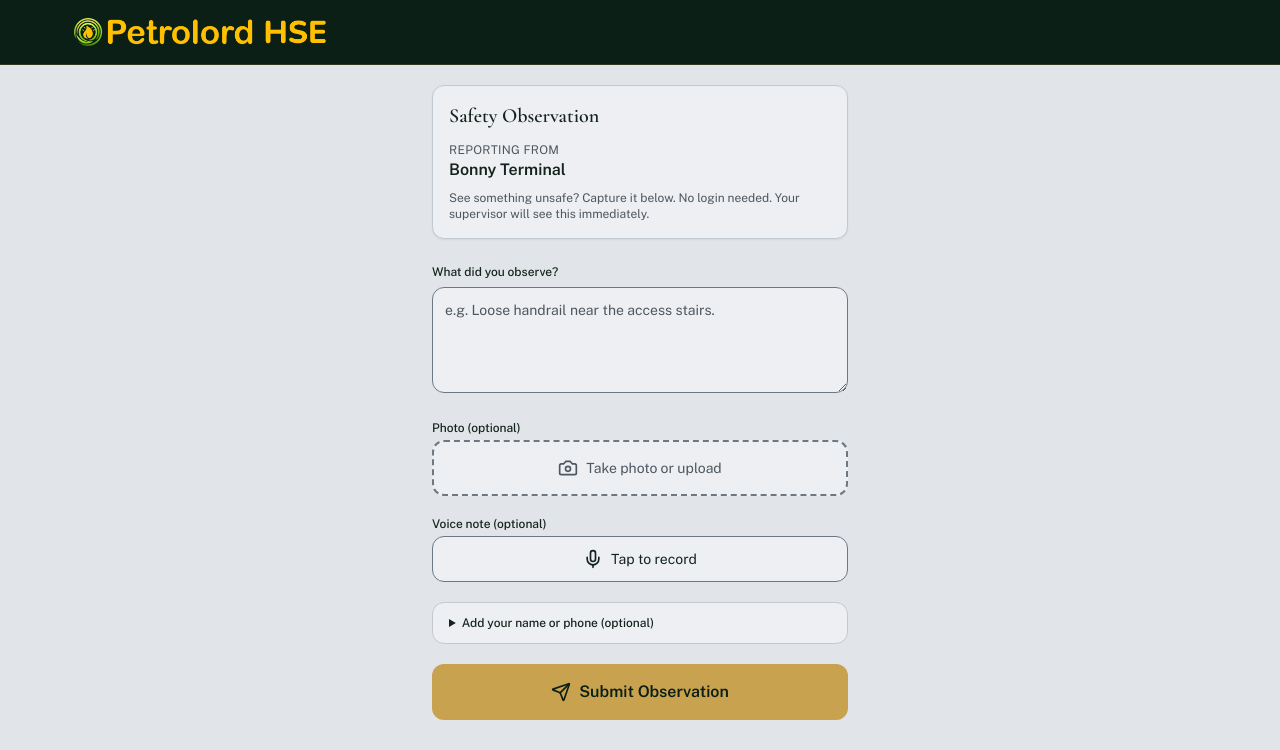
QR observation: the themed states › the submit error, the recording state and the success card are themed
Expected: the text "Bonny Terminal" is shown, [449,160,566,179]
Step 1. Click the button "Submit Observation" → [640, 692], box [432,664,848,720]
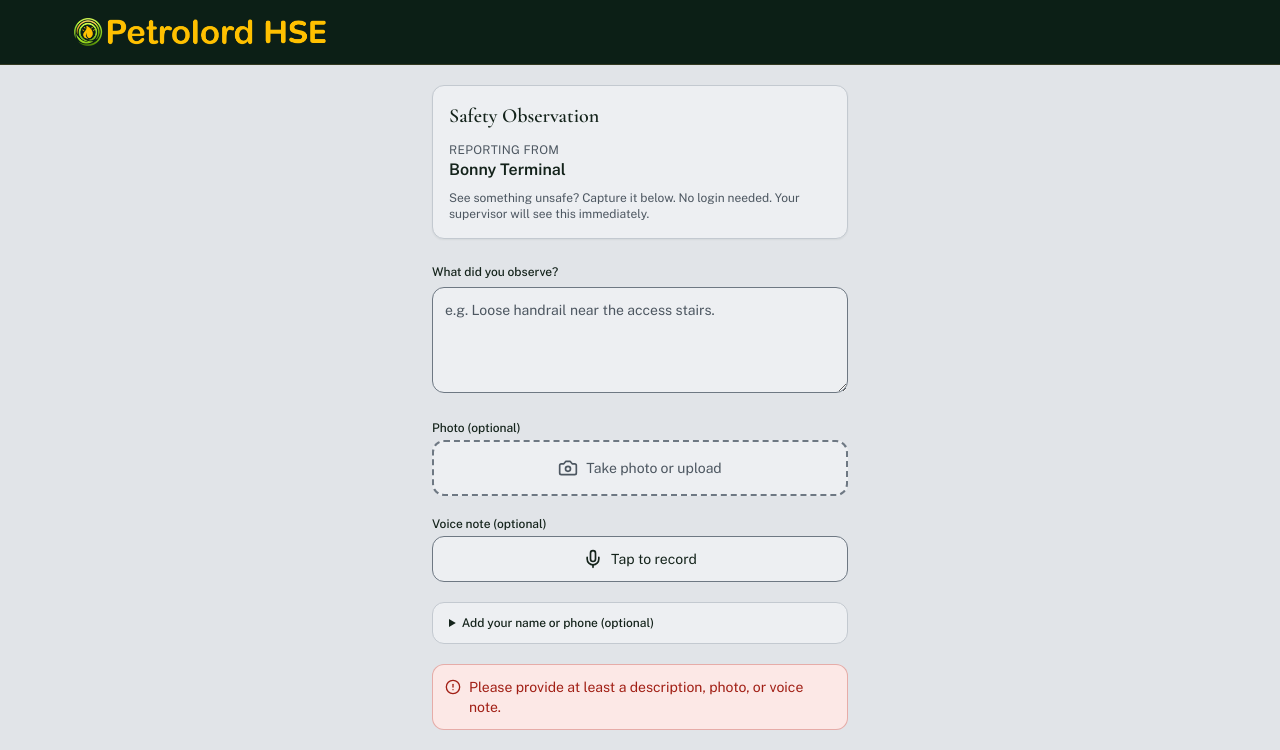
Now the text "Please provide at least a description, photo, or voice note." is shown, box [469,677,835,717]
Step 2. Click the button "Tap to record" → [640, 559], box [432,536,848,582]
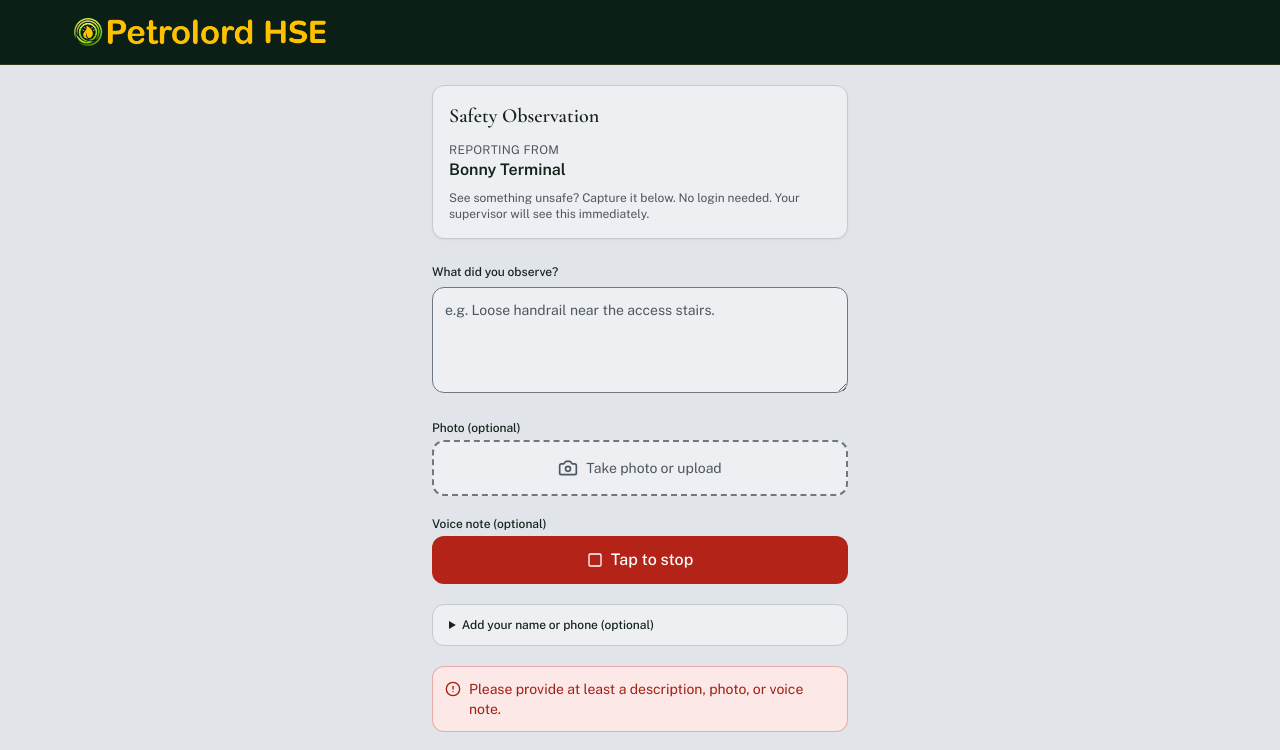
Now the button "Tap to stop" is shown
Step 3. Click the button "Tap to stop" → [640, 560], box [432,536,848,584]
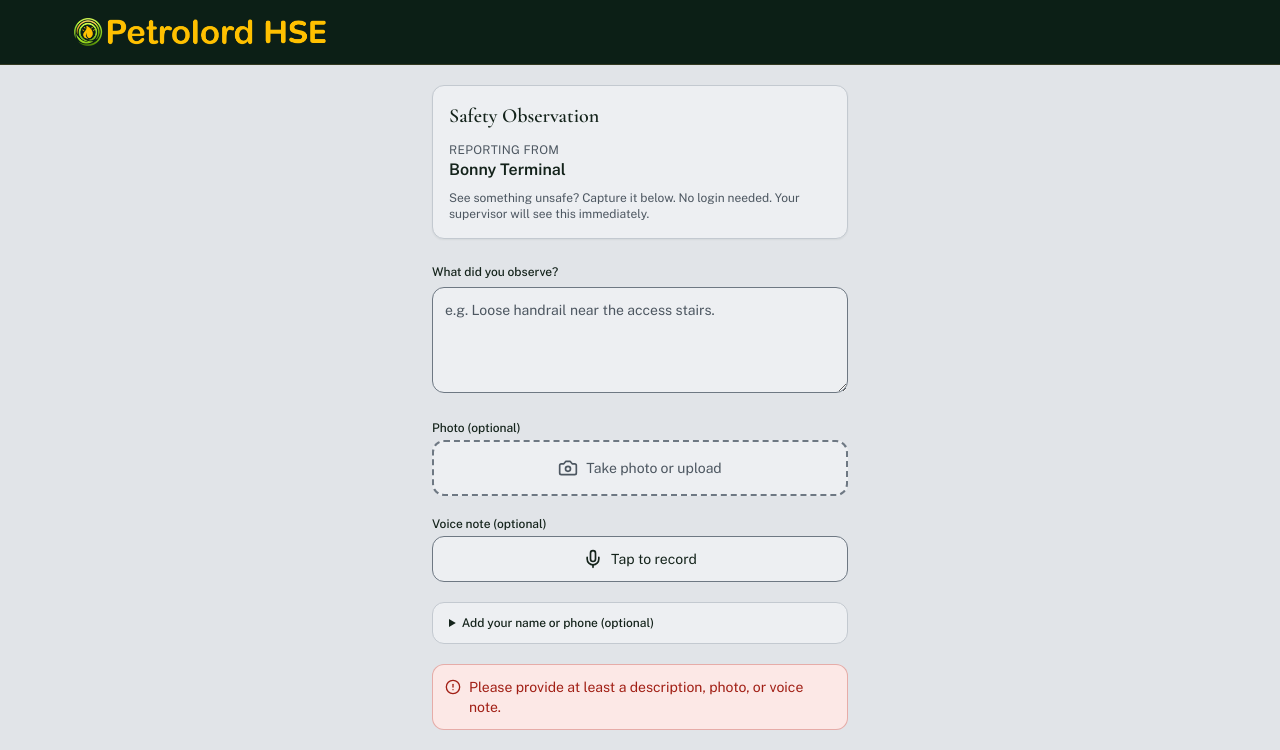
Step 4. Type "Oil on the stairs" into the text box with placeholder "e.g. Loose handrail near the access stairs." → [640, 340], box [432,287,848,393]
(page scrolled)
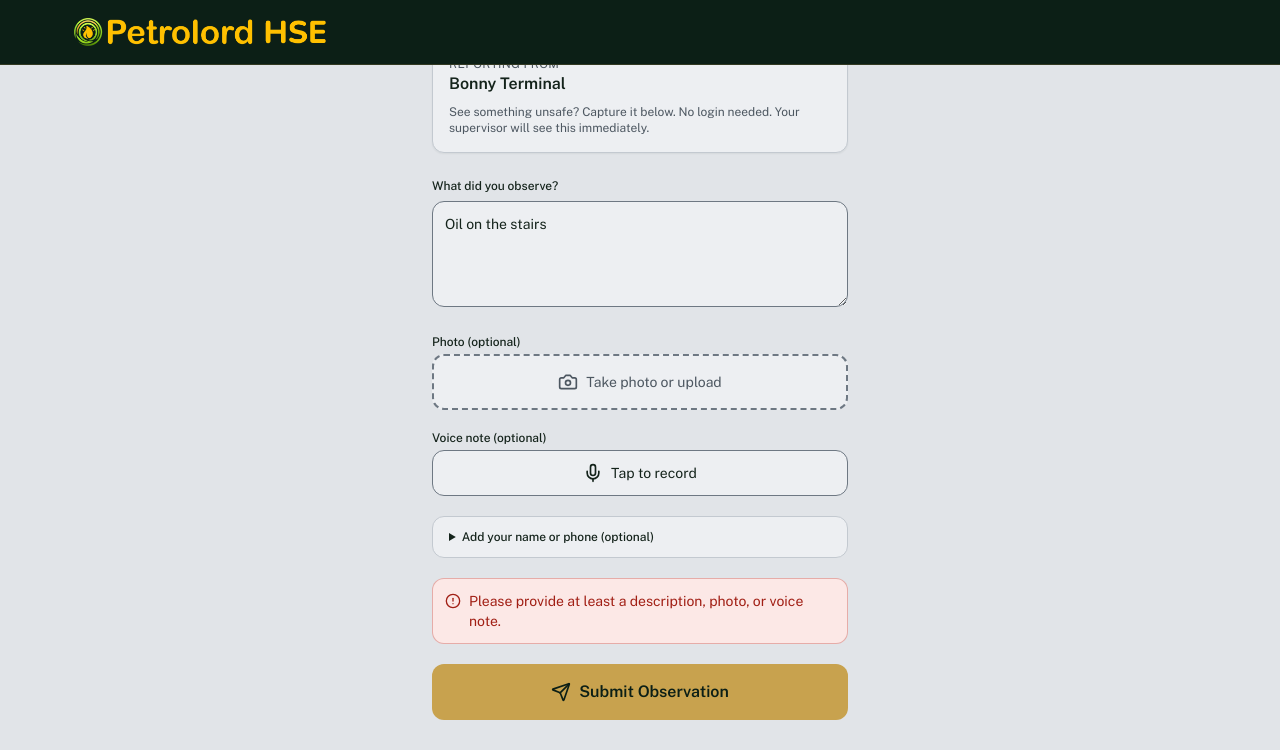
Step 5. Click the button "Submit Observation" → [640, 692], box [432,664,848,720]
(page scrolled)
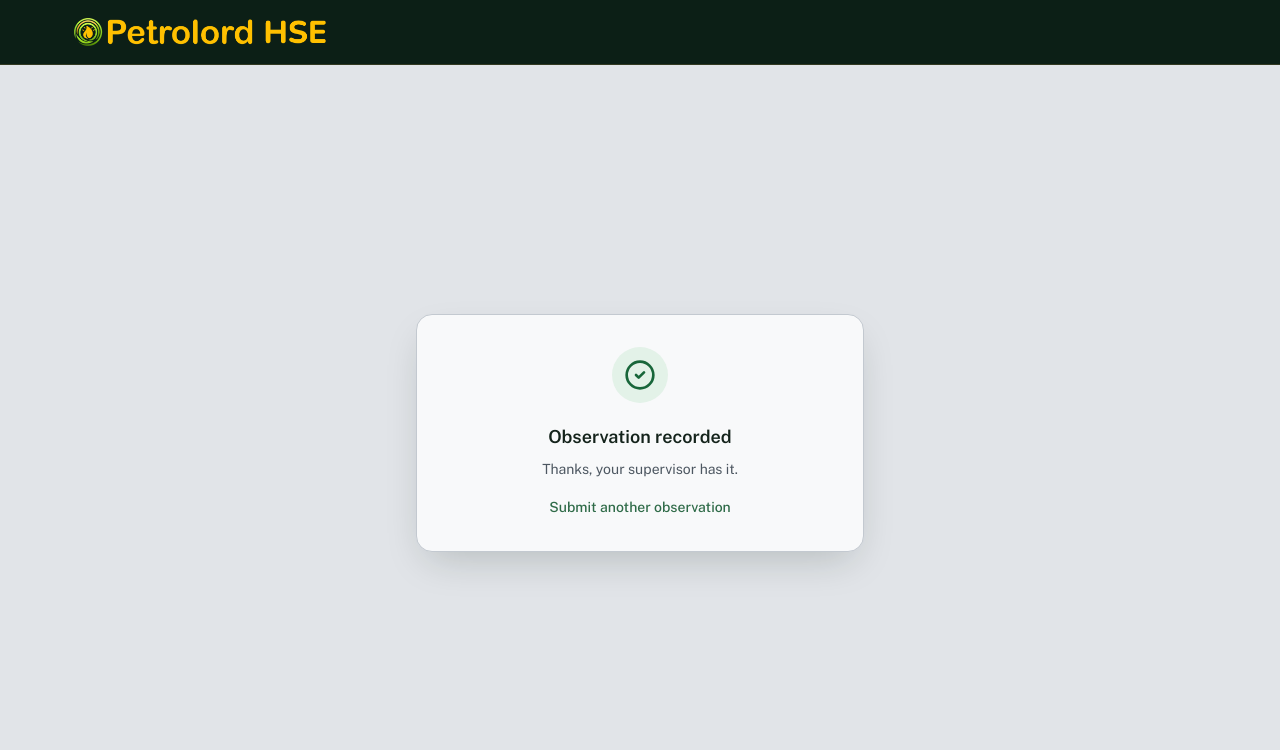
Now the heading "Observation recorded" is shown, box [548,426,732,446]
